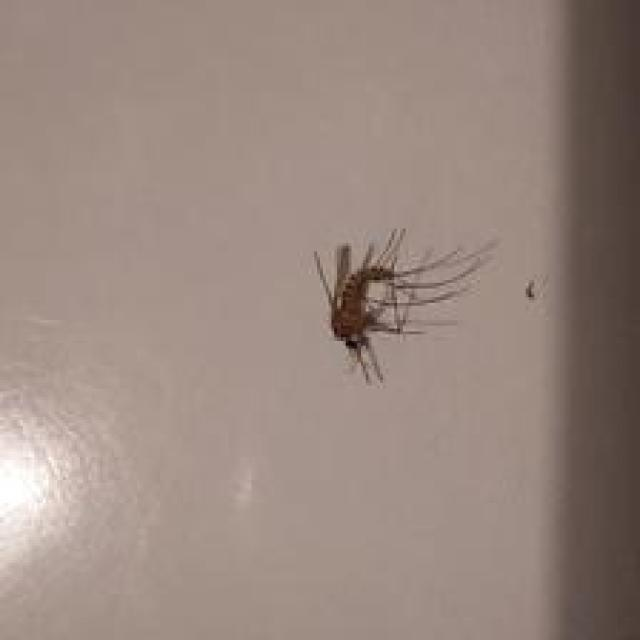Culex: (311, 226, 500, 386)
